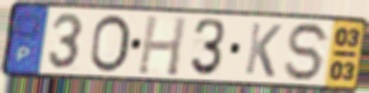3: (46, 12, 87, 72), (189, 17, 228, 79)
H: (135, 14, 189, 79)
K: (242, 20, 284, 80)
O: (87, 13, 132, 75)
S: (283, 21, 333, 83)
